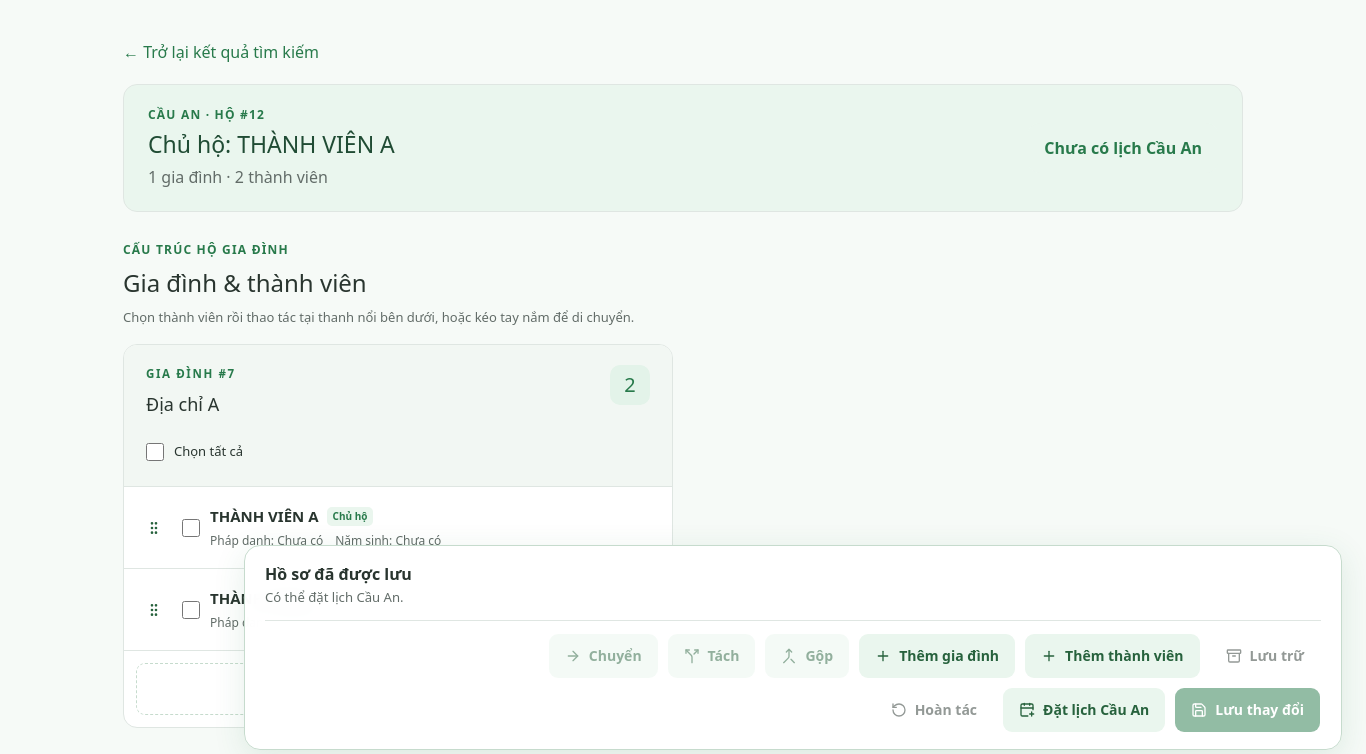
HouseholdDetailWorkspace › splits the one selected member through the real reducer
The image size is (1366, 754).
Expected: the heading "Chủ hộ: THÀNH VIÊN A" is shown, left=148, top=127, right=395, bottom=162
Step 1. Click the checkbox named "Chọn THÀNH VIÊN B" → (191,610), box left=182, top=601, right=200, bottom=619
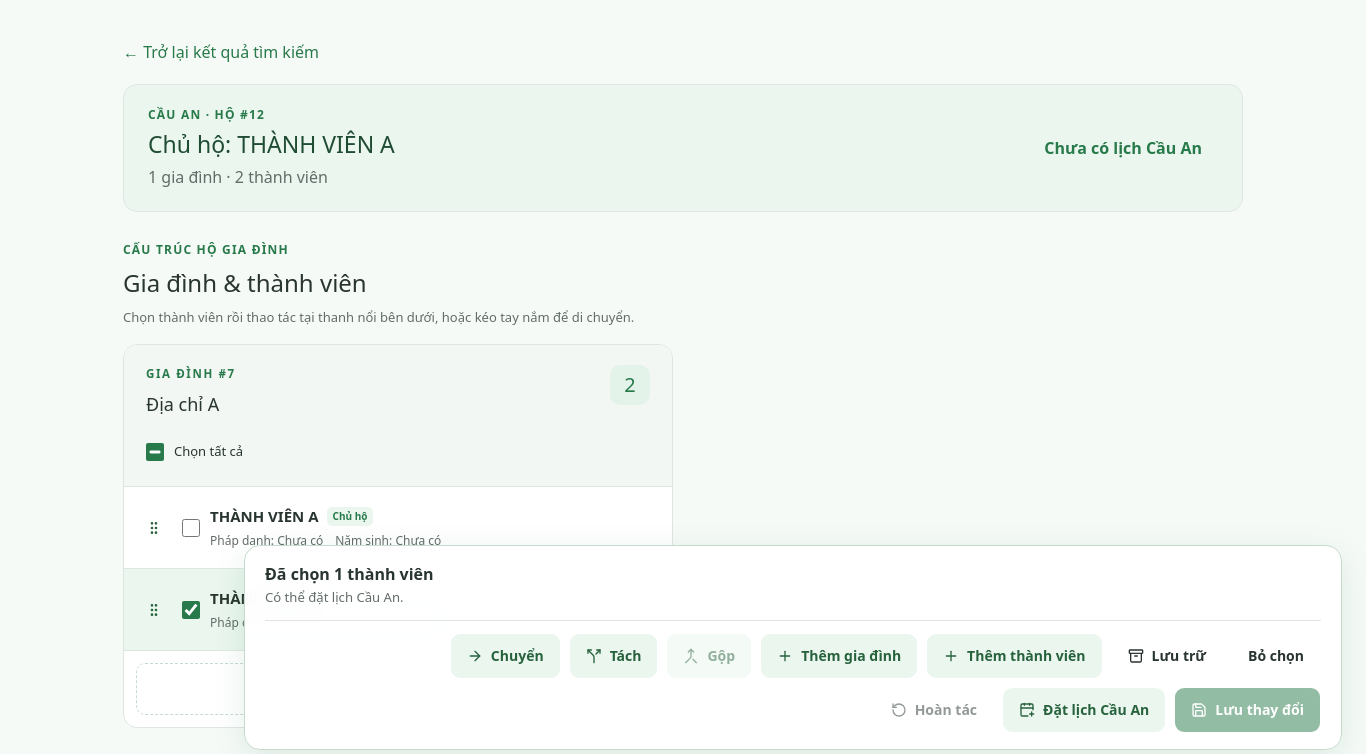
Step 2. Click the button "Tách" → (614,656), box left=569, top=633, right=658, bottom=679
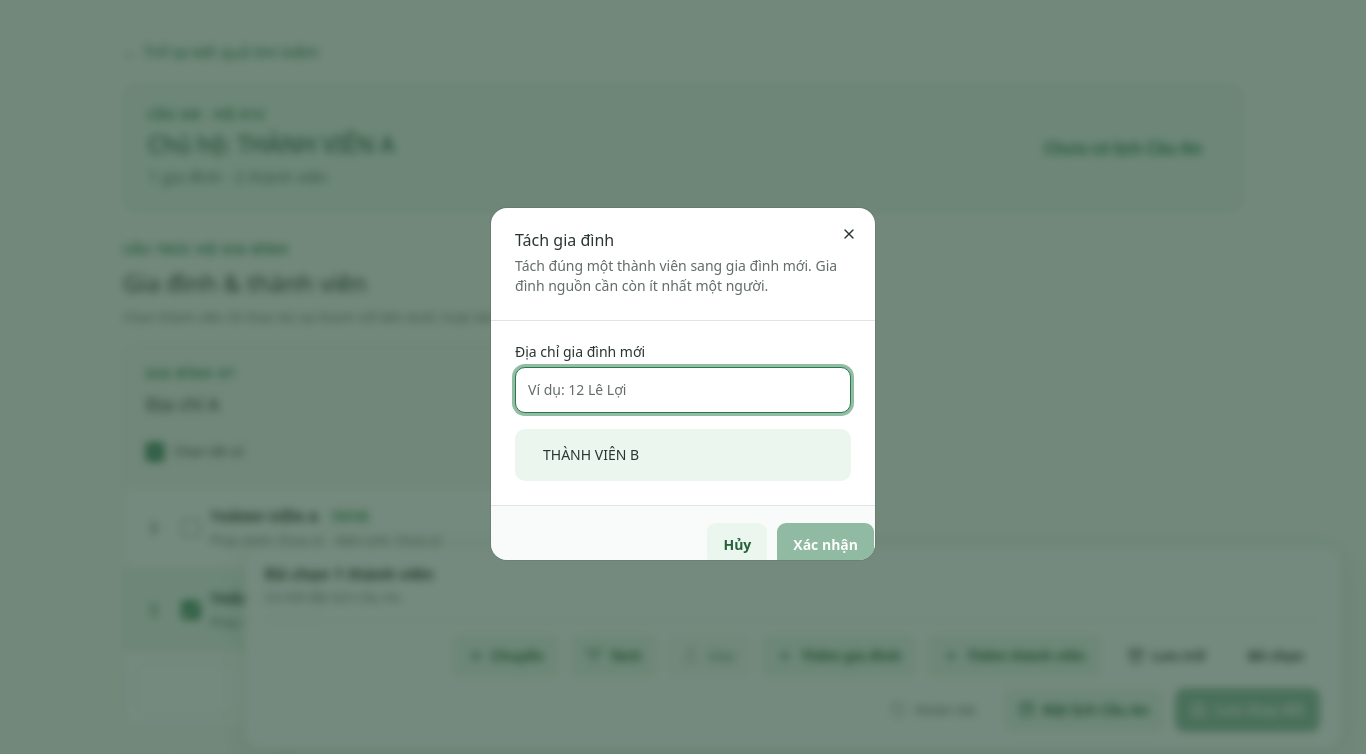
Now the list item "THÀNH VIÊN B" is shown, box left=543, top=445, right=639, bottom=464
Step 3. Type "Địa chỉ mới" into the field labelled "Địa chỉ gia đình mới" → (683,390), box left=515, top=367, right=851, bottom=413
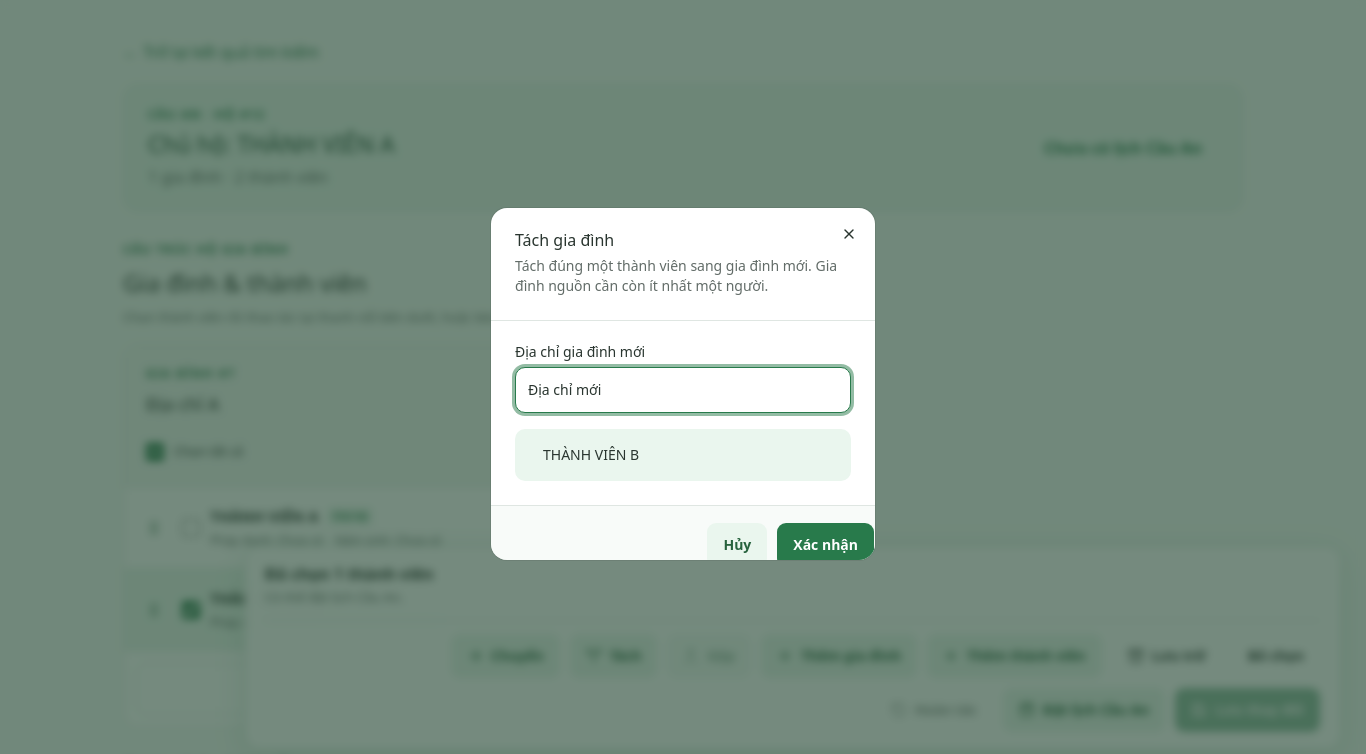
Step 4. Click the button "Xác nhận" → (826,545), box left=776, top=522, right=875, bottom=568
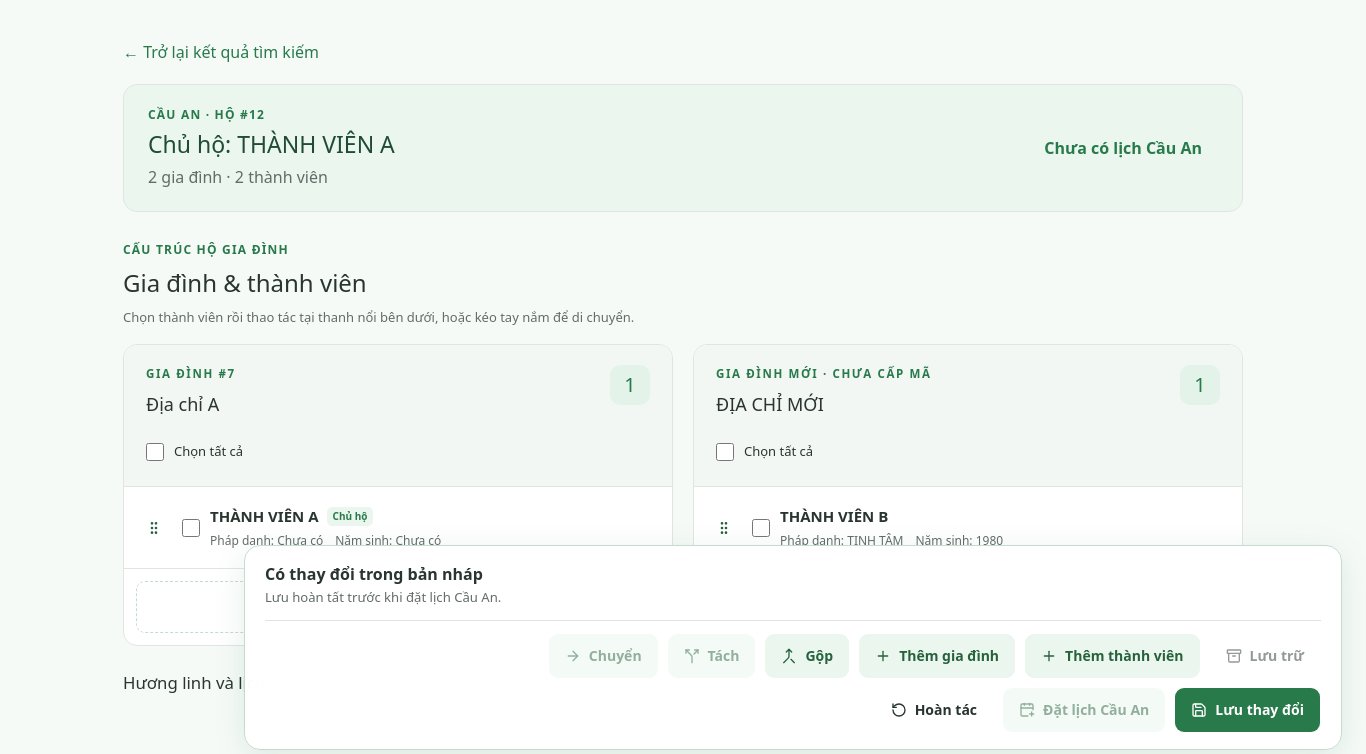
Now the heading "ĐỊA CHỈ MỚI" is shown, box left=716, top=392, right=824, bottom=416
Now the button "Lưu thay đổi" is enabled, box left=1174, top=687, right=1321, bottom=733
